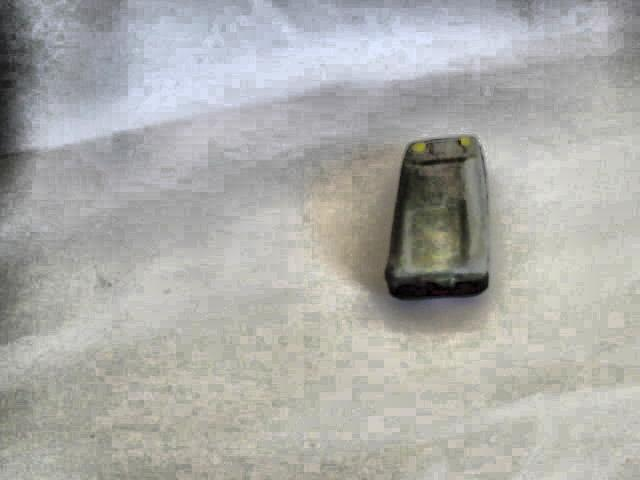normal_car: (376, 129, 495, 307)
